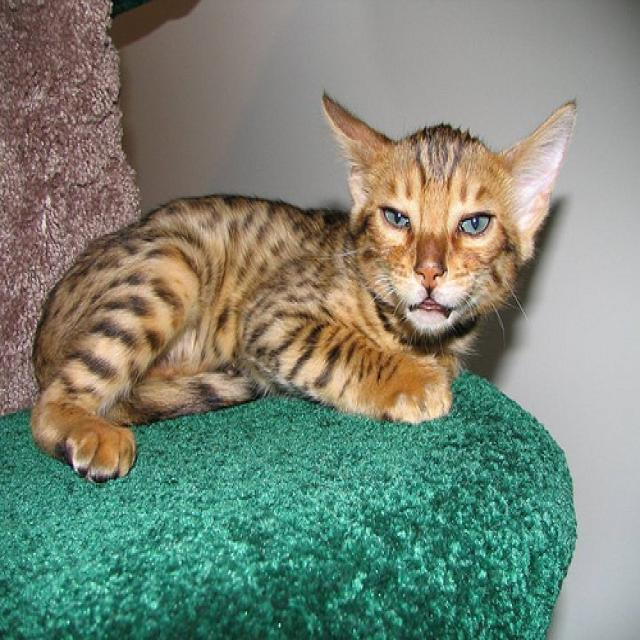Bengal: (320, 89, 575, 333)
